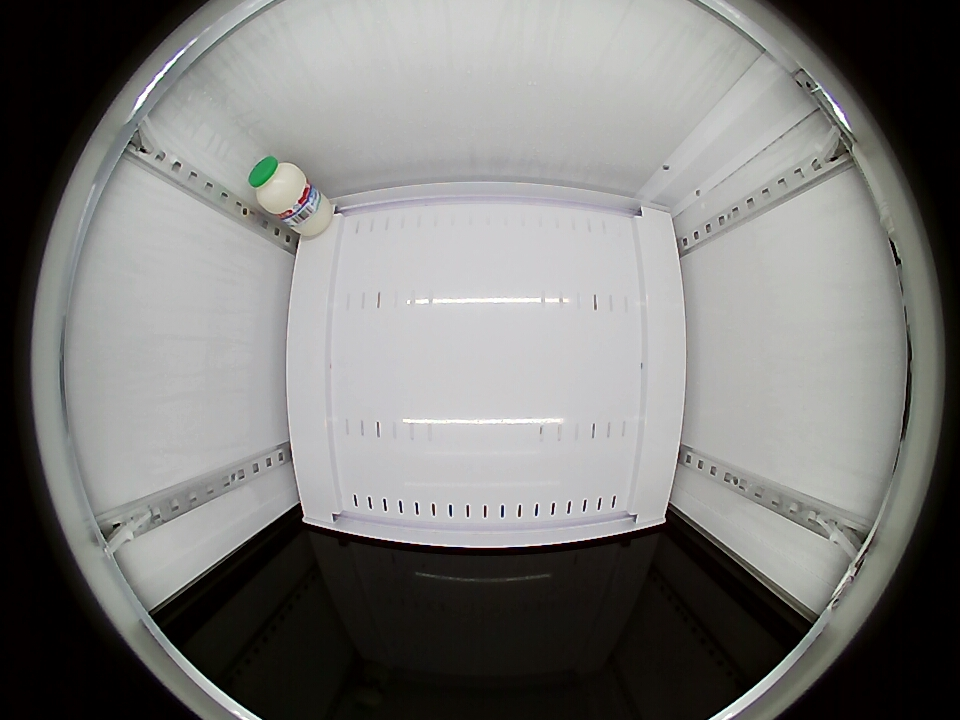liziyuan: (248, 155, 308, 217)
